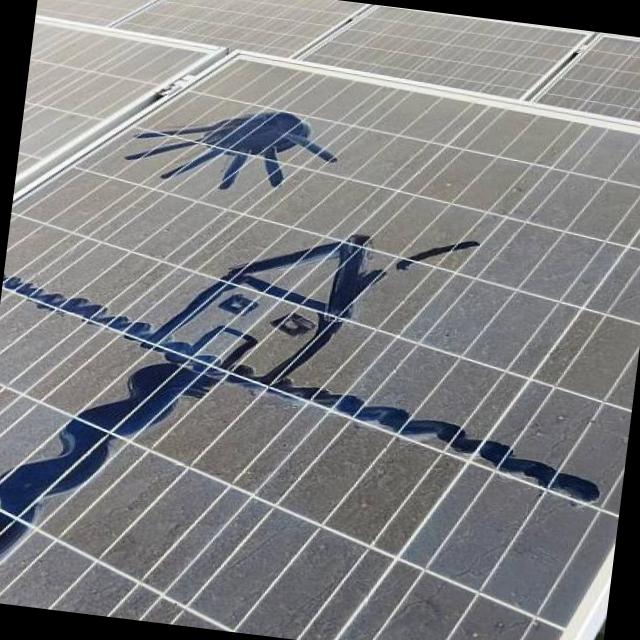faulty: (0, 60, 640, 640), (303, 3, 588, 106), (19, 25, 201, 173), (124, 0, 363, 54), (536, 34, 640, 120), (36, 0, 147, 27)
